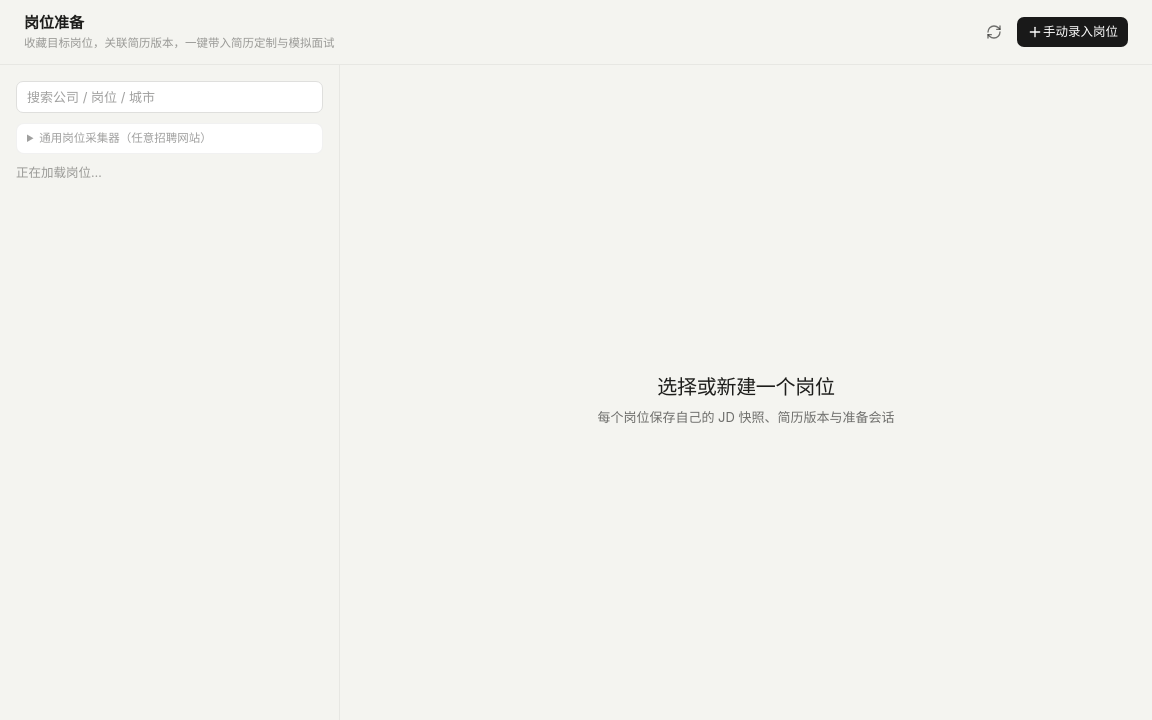
it: PreparationPage › 保存失败时表单保留输入并显示错误
Step 1. Click the button "手动录入岗位" → (1072, 32), box left=1017, top=17, right=1128, bottom=47
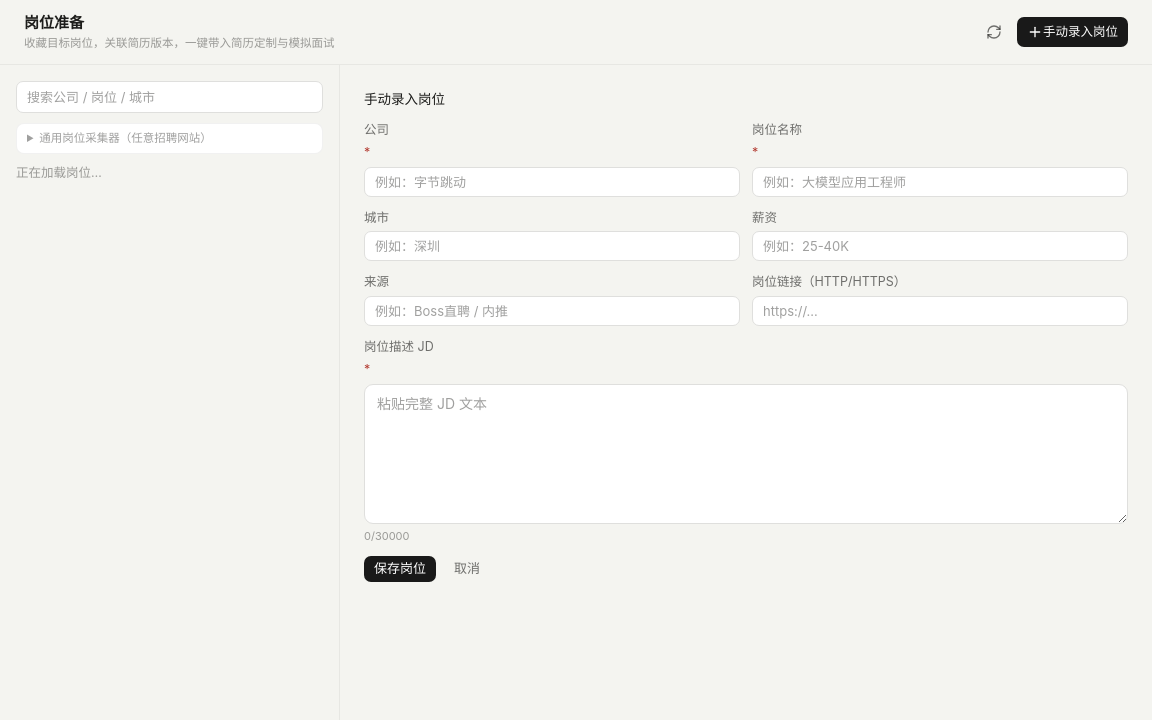
Step 2. Type "测试公司" into the field with placeholder "例如：字节跳动" → (552, 182), box left=364, top=166, right=740, bottom=196
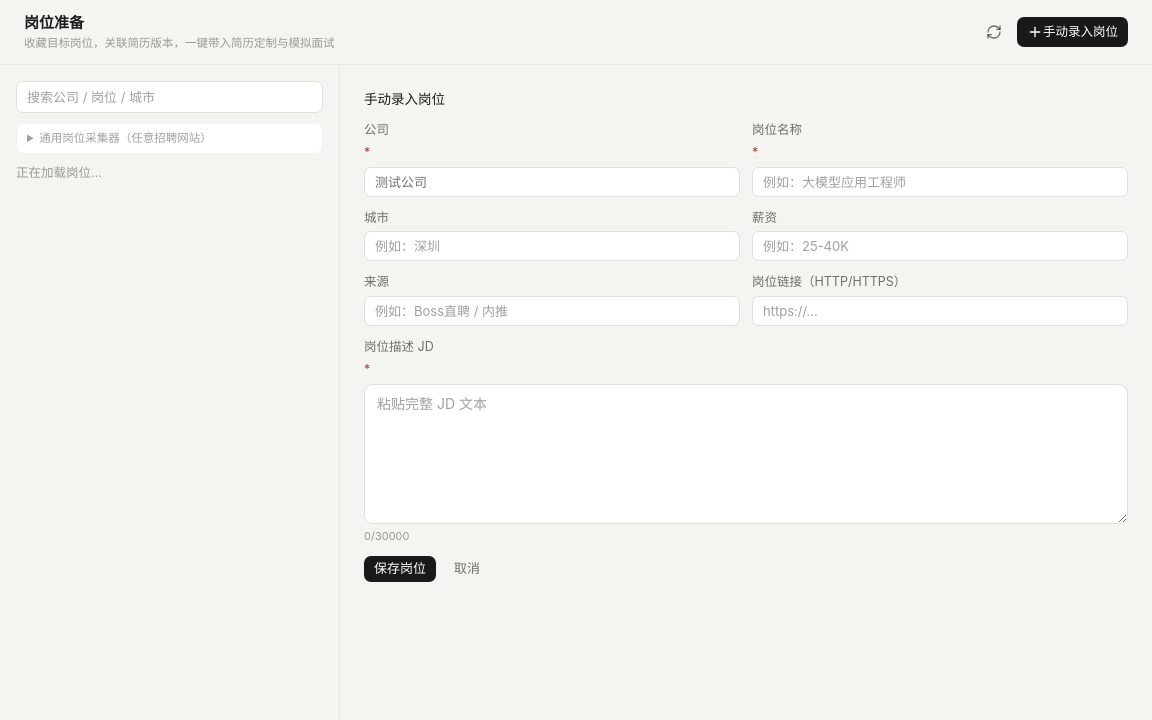
Step 3. Type "Java开发" into the field with placeholder "例如：大模型应用工程师" → (940, 182), box left=752, top=166, right=1128, bottom=196
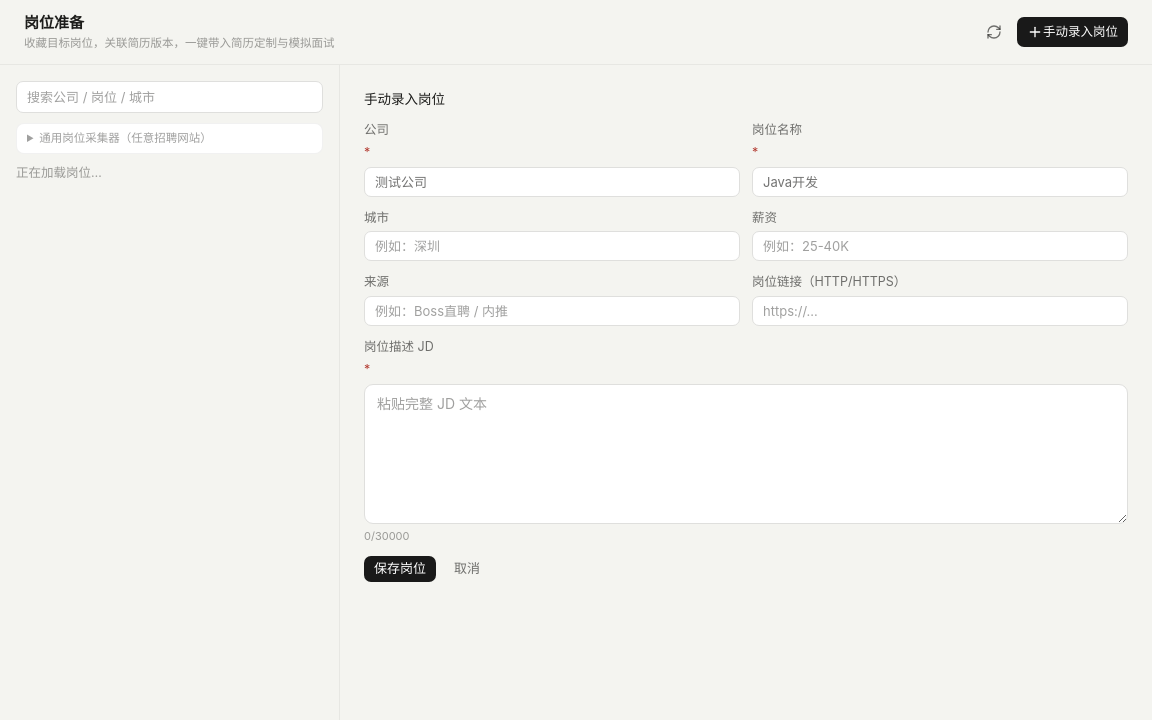
Step 4. Type "负责接口开发" into the text box with placeholder "粘贴完整 JD 文本" → (746, 454), box left=364, top=384, right=1128, bottom=524
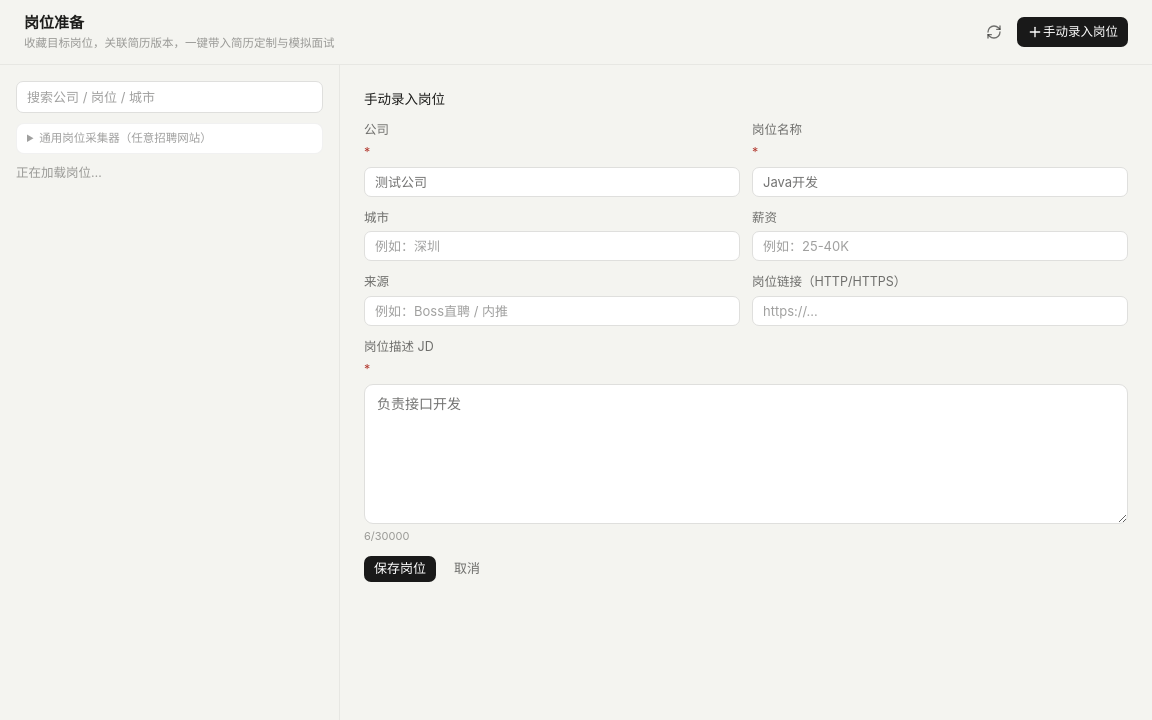
Step 5. Click the button "保存岗位" → (400, 569), box left=364, top=556, right=436, bottom=582
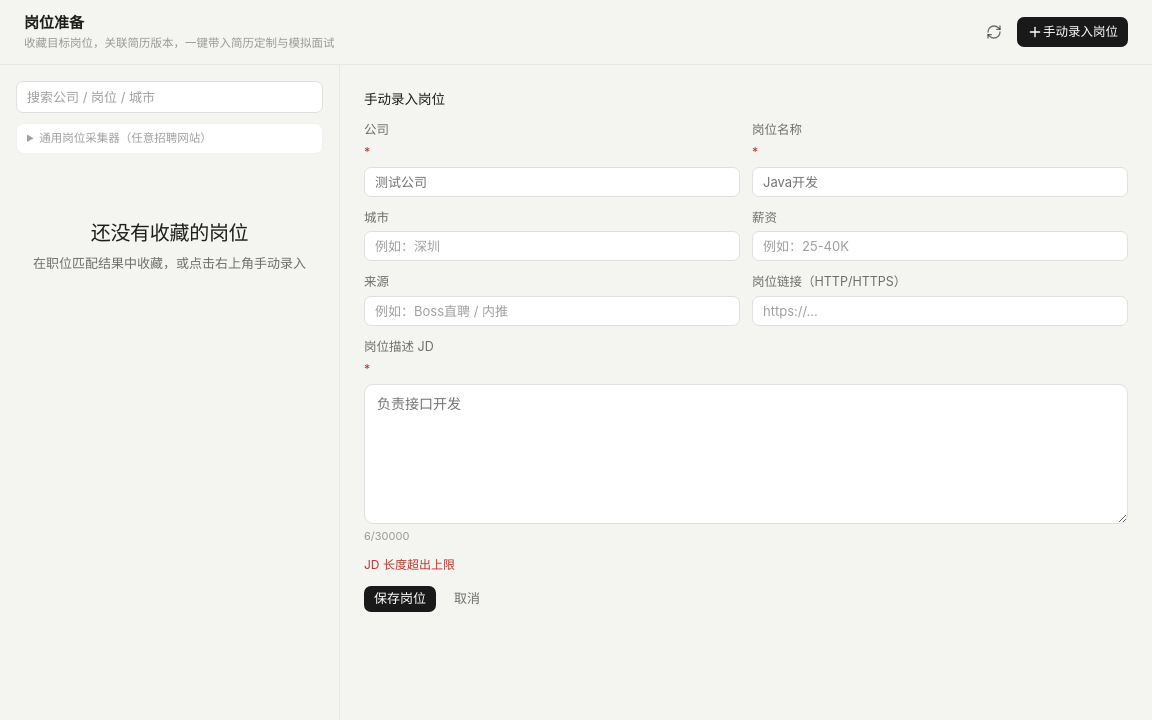
Expected: the text "JD 长度超出上限" is shown, left=364, top=557, right=455, bottom=572
